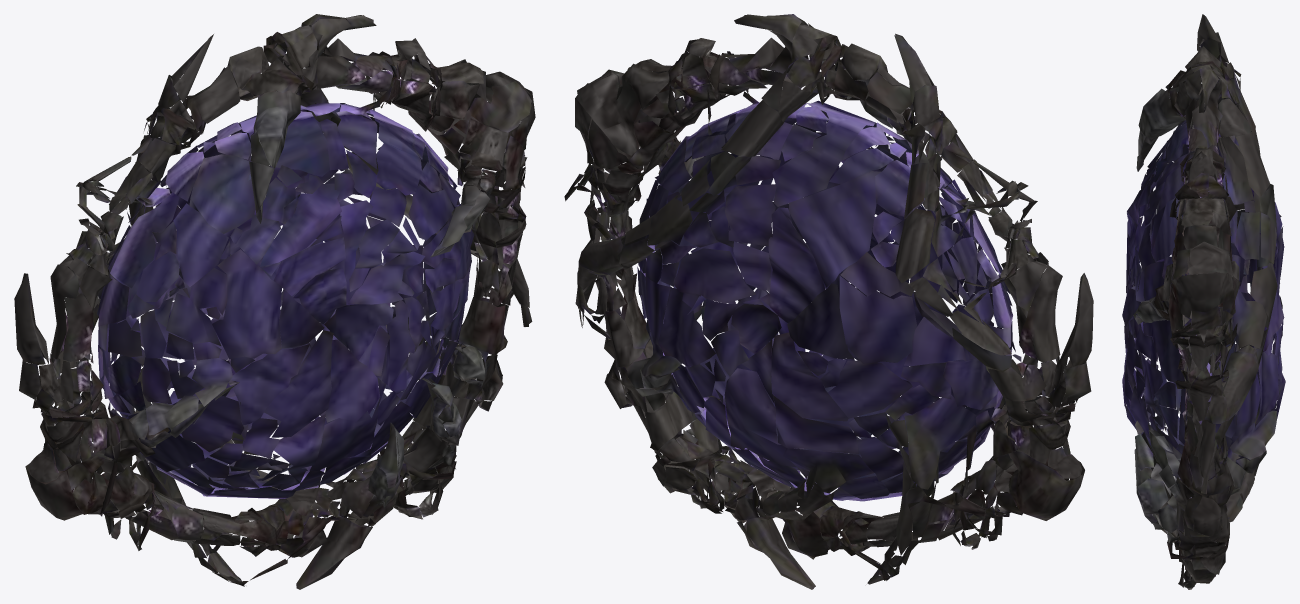
File: stormglass.glb
3 views of the same model, side by side, from view 1: azimuth 30°, elevation 25°; view 2: azimuth 150°, elevation 25°; view 3: azimuth 270°, elevation 25° (orthographic). The views are drawn at different scales.
Parts seen in each view (by area): view 1: Stormglass; view 2: Stormglass; view 3: Stormglass.
Boxes of the visible parts, box(x1,y1,x2,y2) form: Stormglass: box(14, 14, 535, 589); Stormglass: box(564, 14, 1093, 589); Stormglass: box(1122, 14, 1285, 589).
Size of the model in its own units: 0.3201 by 0.3388 by 0.0953.
Materials: 1 (1 with a texture image).
